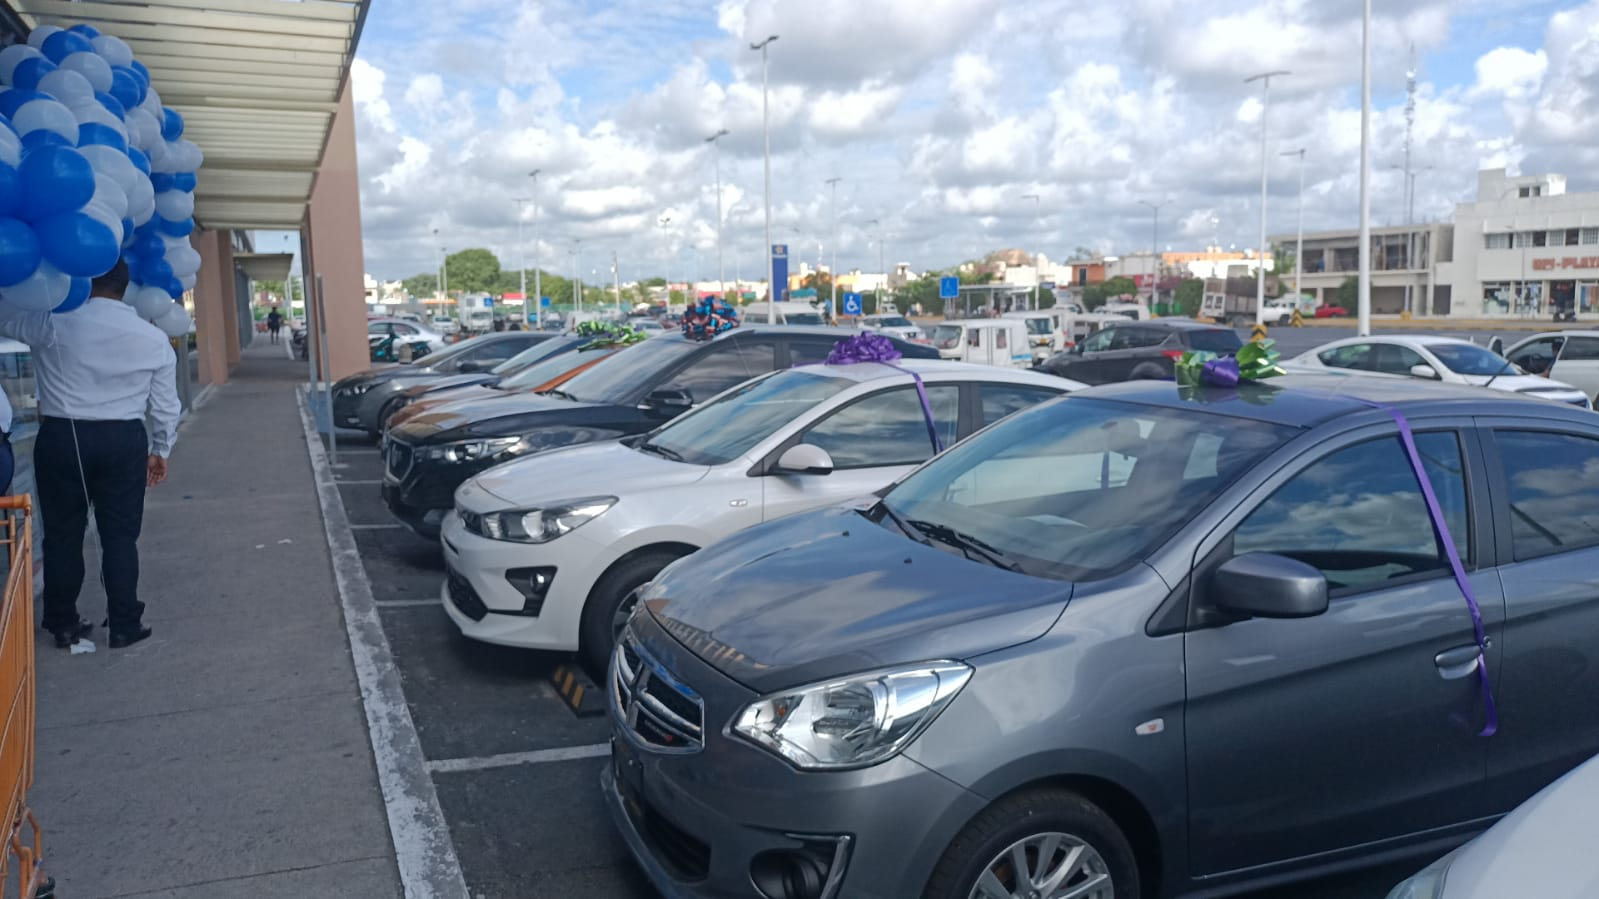Auto: (603, 370, 1599, 899), (445, 359, 1223, 673), (373, 321, 958, 546), (1265, 334, 1594, 488), (1026, 318, 1245, 430)
